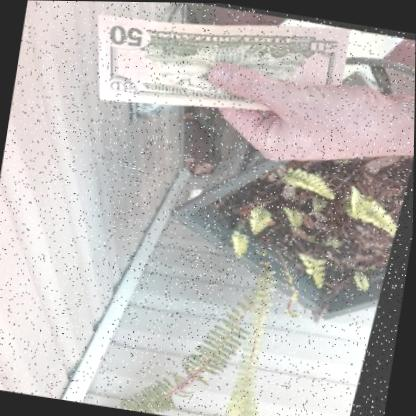dollar_back: (96, 11, 349, 113)
